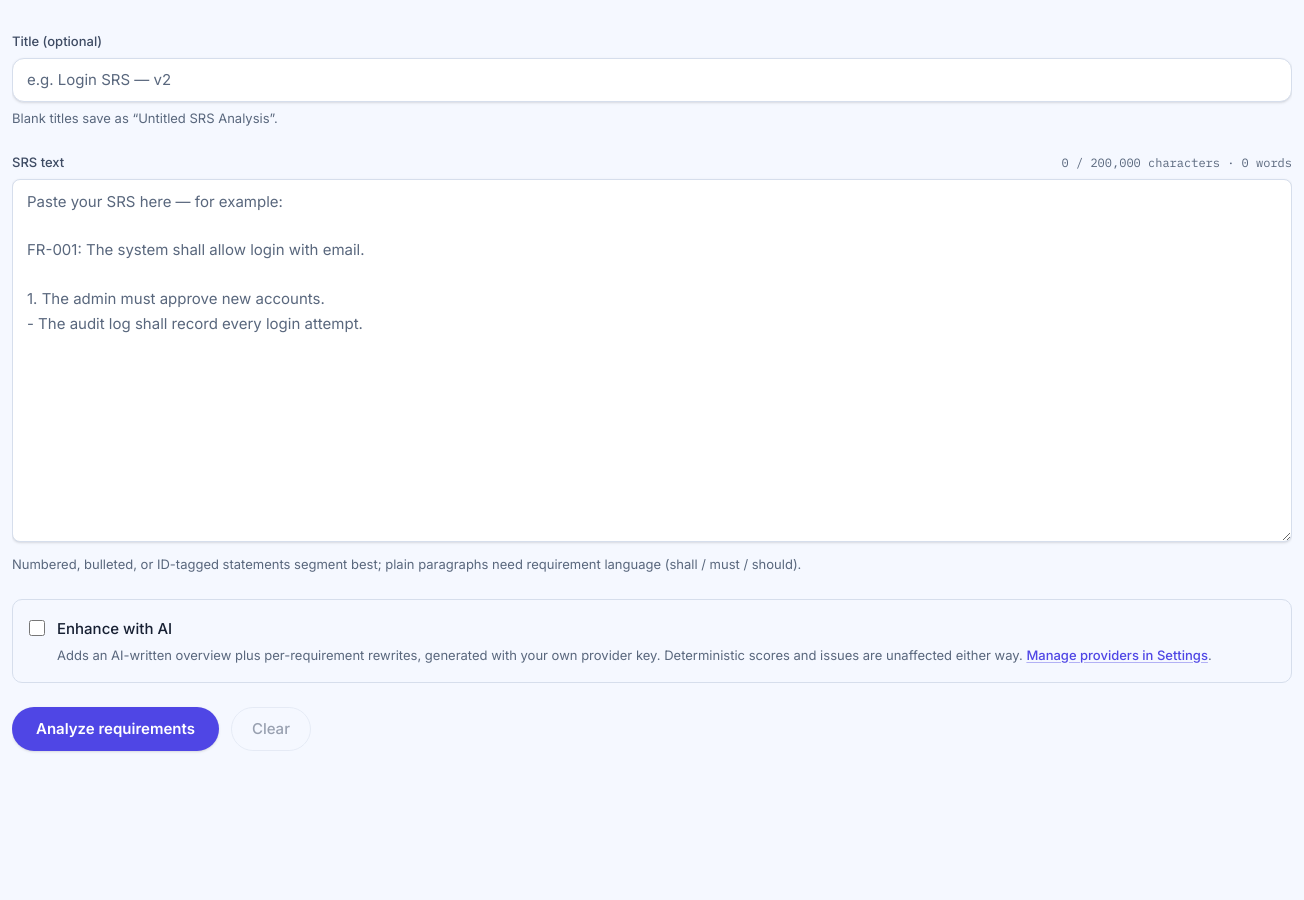
Test: AnalyzerForm › blocks blank submit with an inline error and no request
Click the button "Analyze requirements" at (115, 729), box [12,707,219,751]
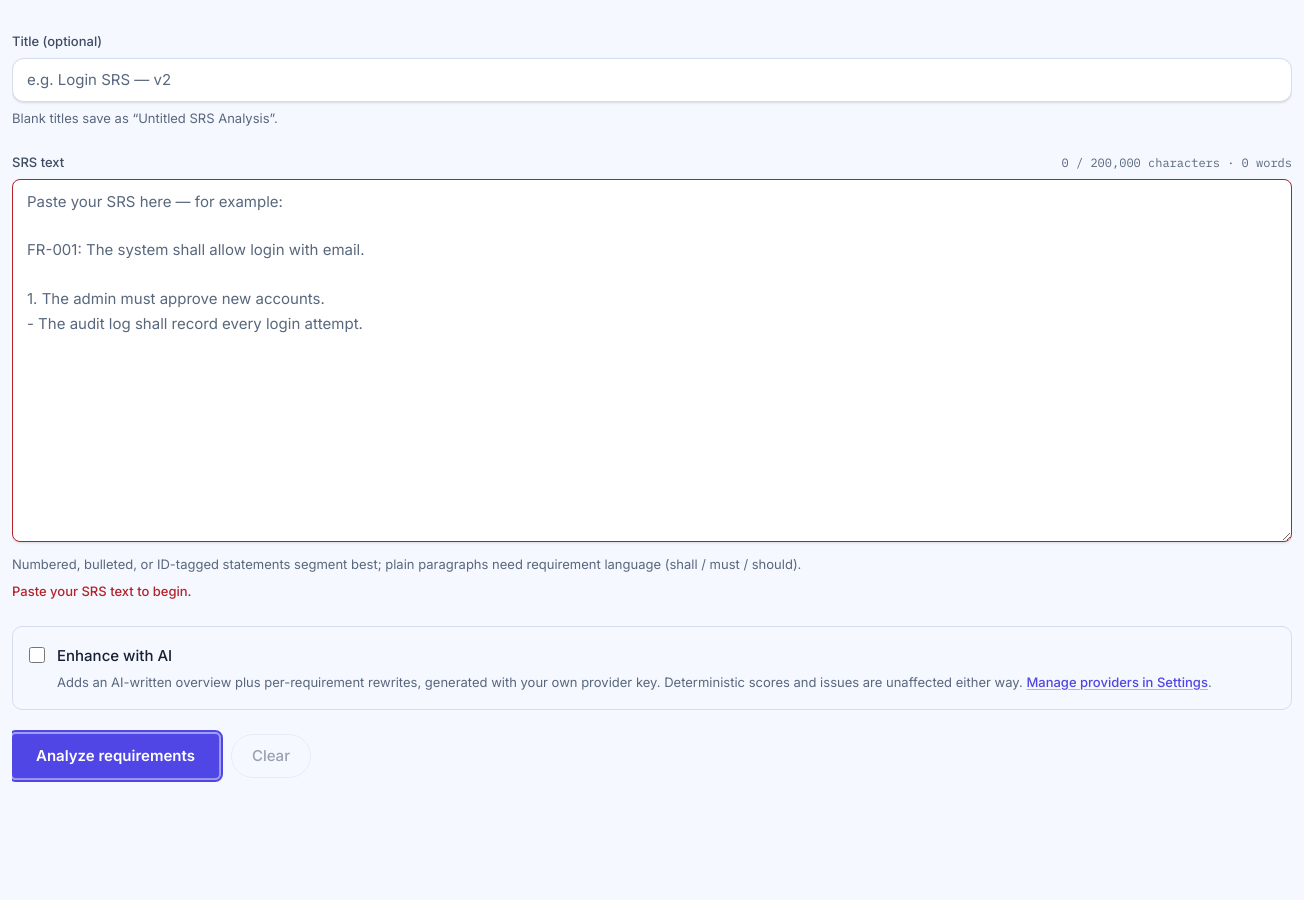
Result: the text "Paste your SRS text to begin." is shown at [12,583,192,599]
